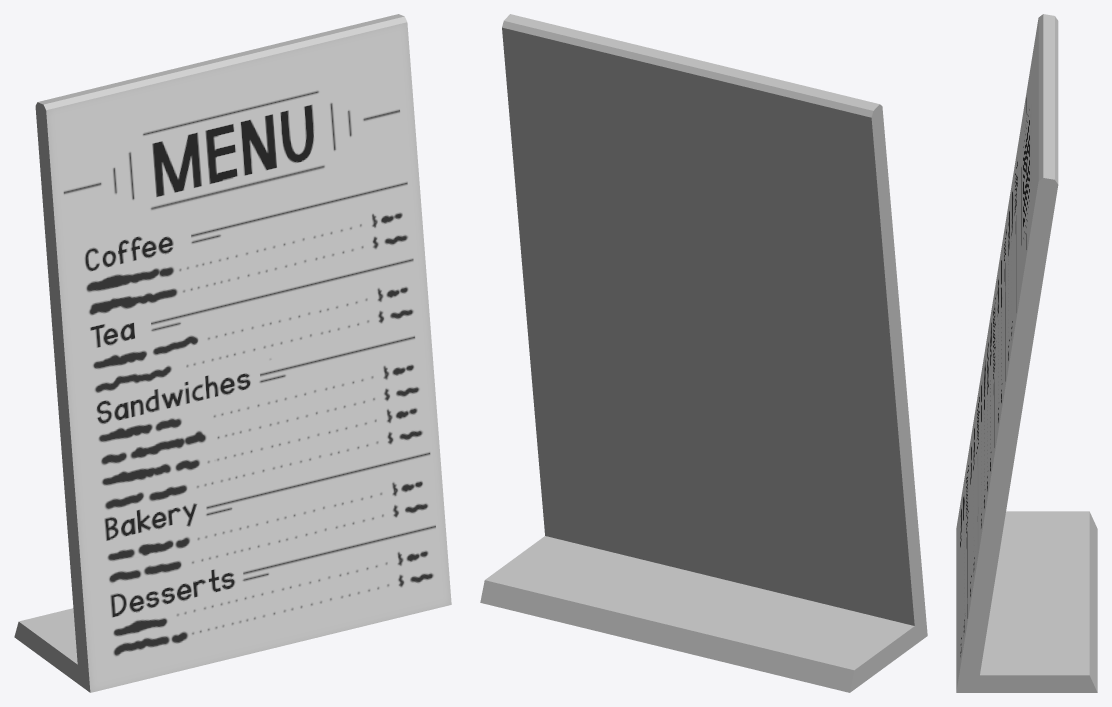
File: menu_small.fbx
The picture shows the model from 3 angles, left to right: view 1: azimuth 30°, elevation 25°; view 2: azimuth 150°, elevation 25°; view 3: azimuth 270°, elevation 25°; orthographic projection. The views are drawn at different scales.
Parts seen in each view (by area): view 1: menu_small; view 2: menu_small; view 3: menu_small.
Part boxes in pixels (x1=…): menu_small: x1=14, y1=14, x2=451, y2=692; menu_small: x1=480, y1=14, x2=927, y2=692; menu_small: x1=956, y1=14, x2=1097, y2=692.
Size of the model in its own units: 19.34 by 28.34 by 7.05.
